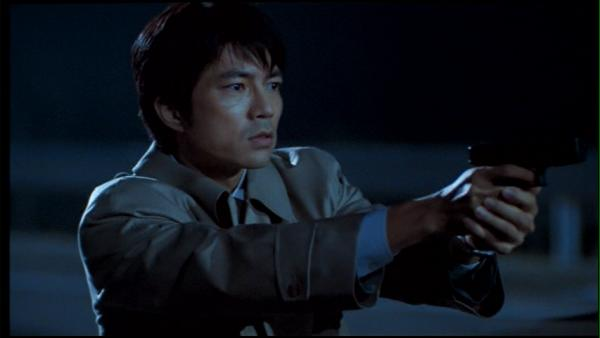Gun: (468, 126, 591, 191)
